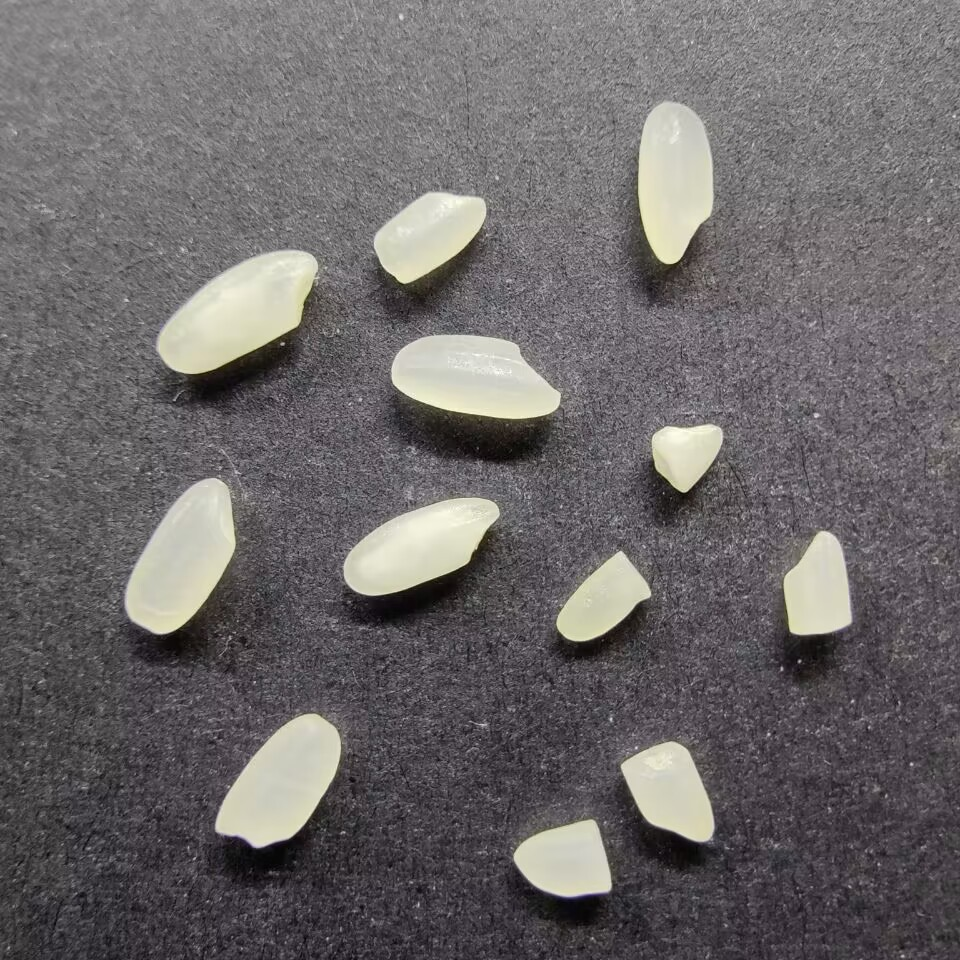broken: (369, 188, 488, 286), (618, 739, 717, 846), (552, 548, 656, 643), (512, 817, 614, 901), (779, 528, 854, 640), (648, 423, 725, 495)
rice: (155, 248, 319, 376), (121, 475, 238, 636), (212, 710, 342, 850), (341, 497, 500, 598), (390, 332, 563, 420), (636, 100, 715, 266)
